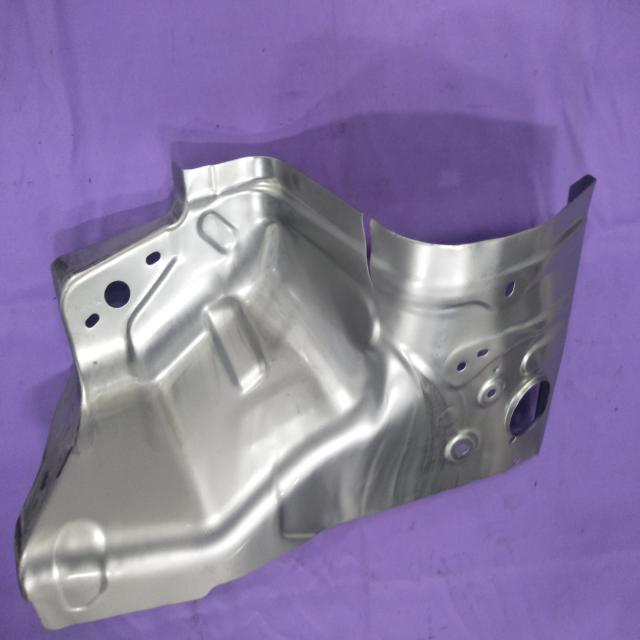Defect: (341, 199, 392, 297)
